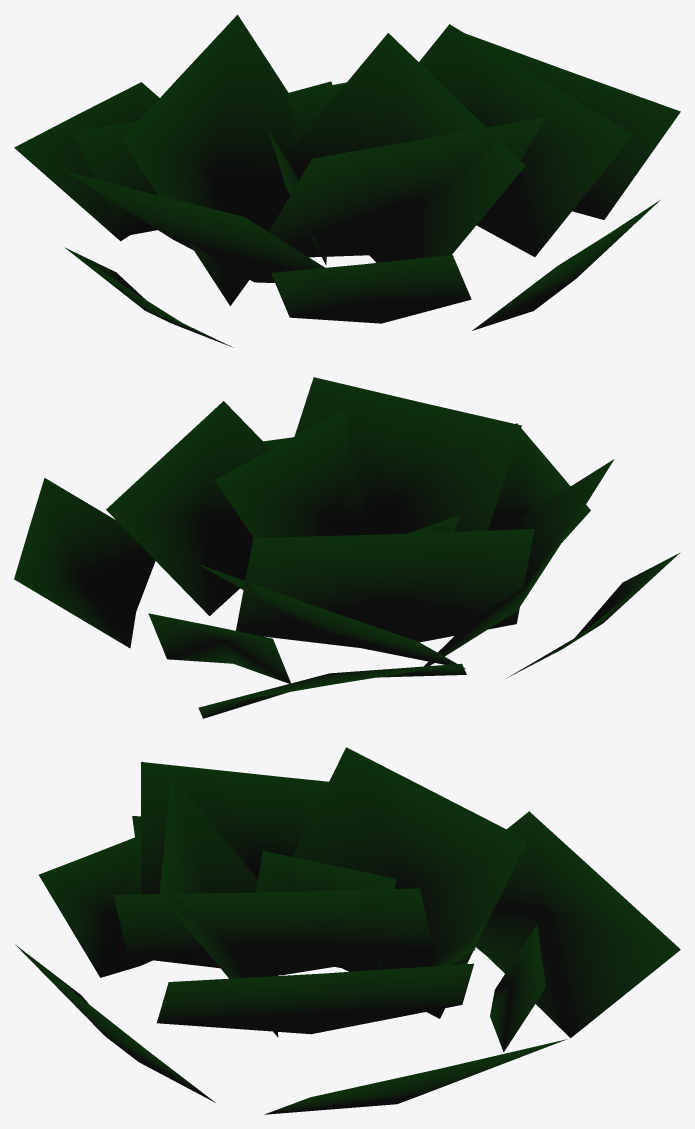
The model's file is GrassSimpleCATAM_C.fbx.
The picture shows the model from 3 angles, top to bottom: view 1: azimuth 30°, elevation 25°; view 2: azimuth 150°, elevation 25°; view 3: azimuth 270°, elevation 25°; orthographic projection. The views are drawn at different scales.
Visible parts, largest first — view 1: Leaves_C_LOD0; view 2: Leaves_C_LOD0; view 3: Leaves_C_LOD0.
Part boxes in pixels (x1=…): Leaves_C_LOD0: x1=14, y1=14, x2=680, y2=347; Leaves_C_LOD0: x1=14, y1=377, x2=680, y2=718; Leaves_C_LOD0: x1=15, y1=747, x2=680, y2=1114.
Size of what is drawn, in the model's own units: 2.27 by 0.7332 by 2.26.
